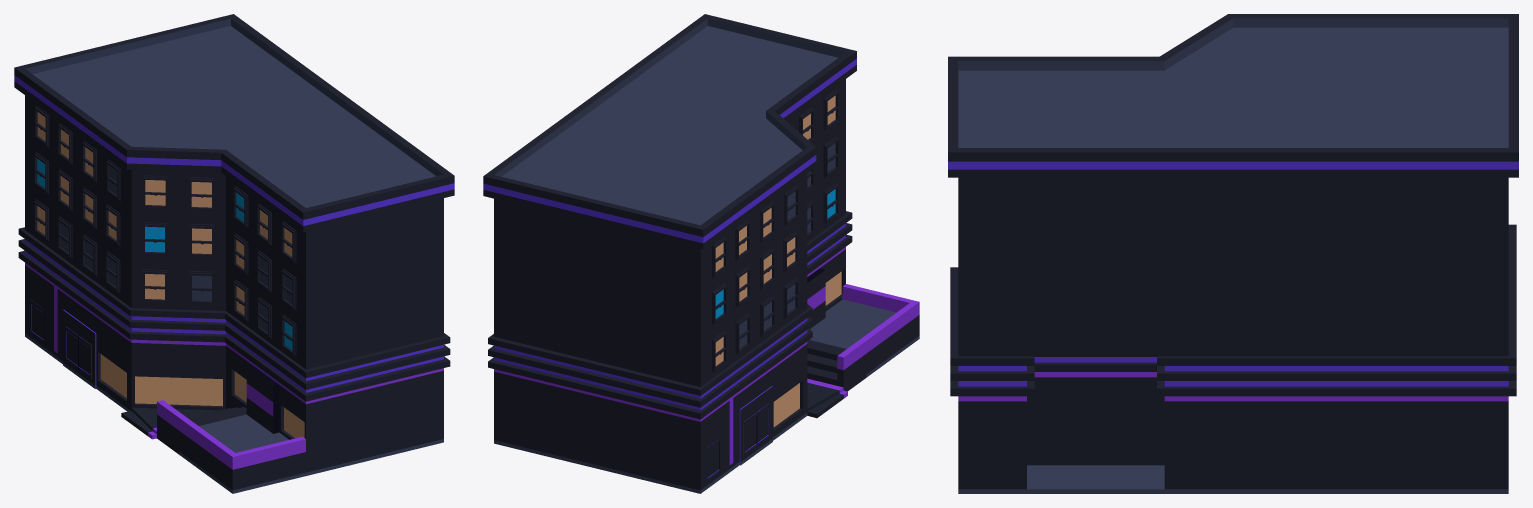
The model's file is Building_NiteBite.fbx.
The picture shows the model from 3 angles, left to right: view 1: azimuth 30°, elevation 25°; view 2: azimuth 150°, elevation 25°; view 3: azimuth 270°, elevation 25°; orthographic projection. The views are drawn at different scales.
Parts seen in each view (by area): view 1: Cube.839, Cube.842, Cube.840, Cube.841; view 2: Cube.839, Cube.841, Cube.840, Cube.842; view 3: Cube.839.
Part boxes in pixels (box(x1,y1,x2,y2)): Cube.839: box(14, 14, 454, 493); Cube.842: box(30, 299, 44, 343); Cube.840: box(78, 335, 91, 379); Cube.841: box(65, 326, 78, 369); Cube.839: box(483, 14, 919, 493); Cube.841: box(743, 413, 756, 456); Cube.840: box(756, 403, 769, 446); Cube.842: box(706, 438, 719, 482); Cube.839: box(948, 14, 1518, 493).
Bounding box in the file's own units: 978 × 1125 × 1683.
